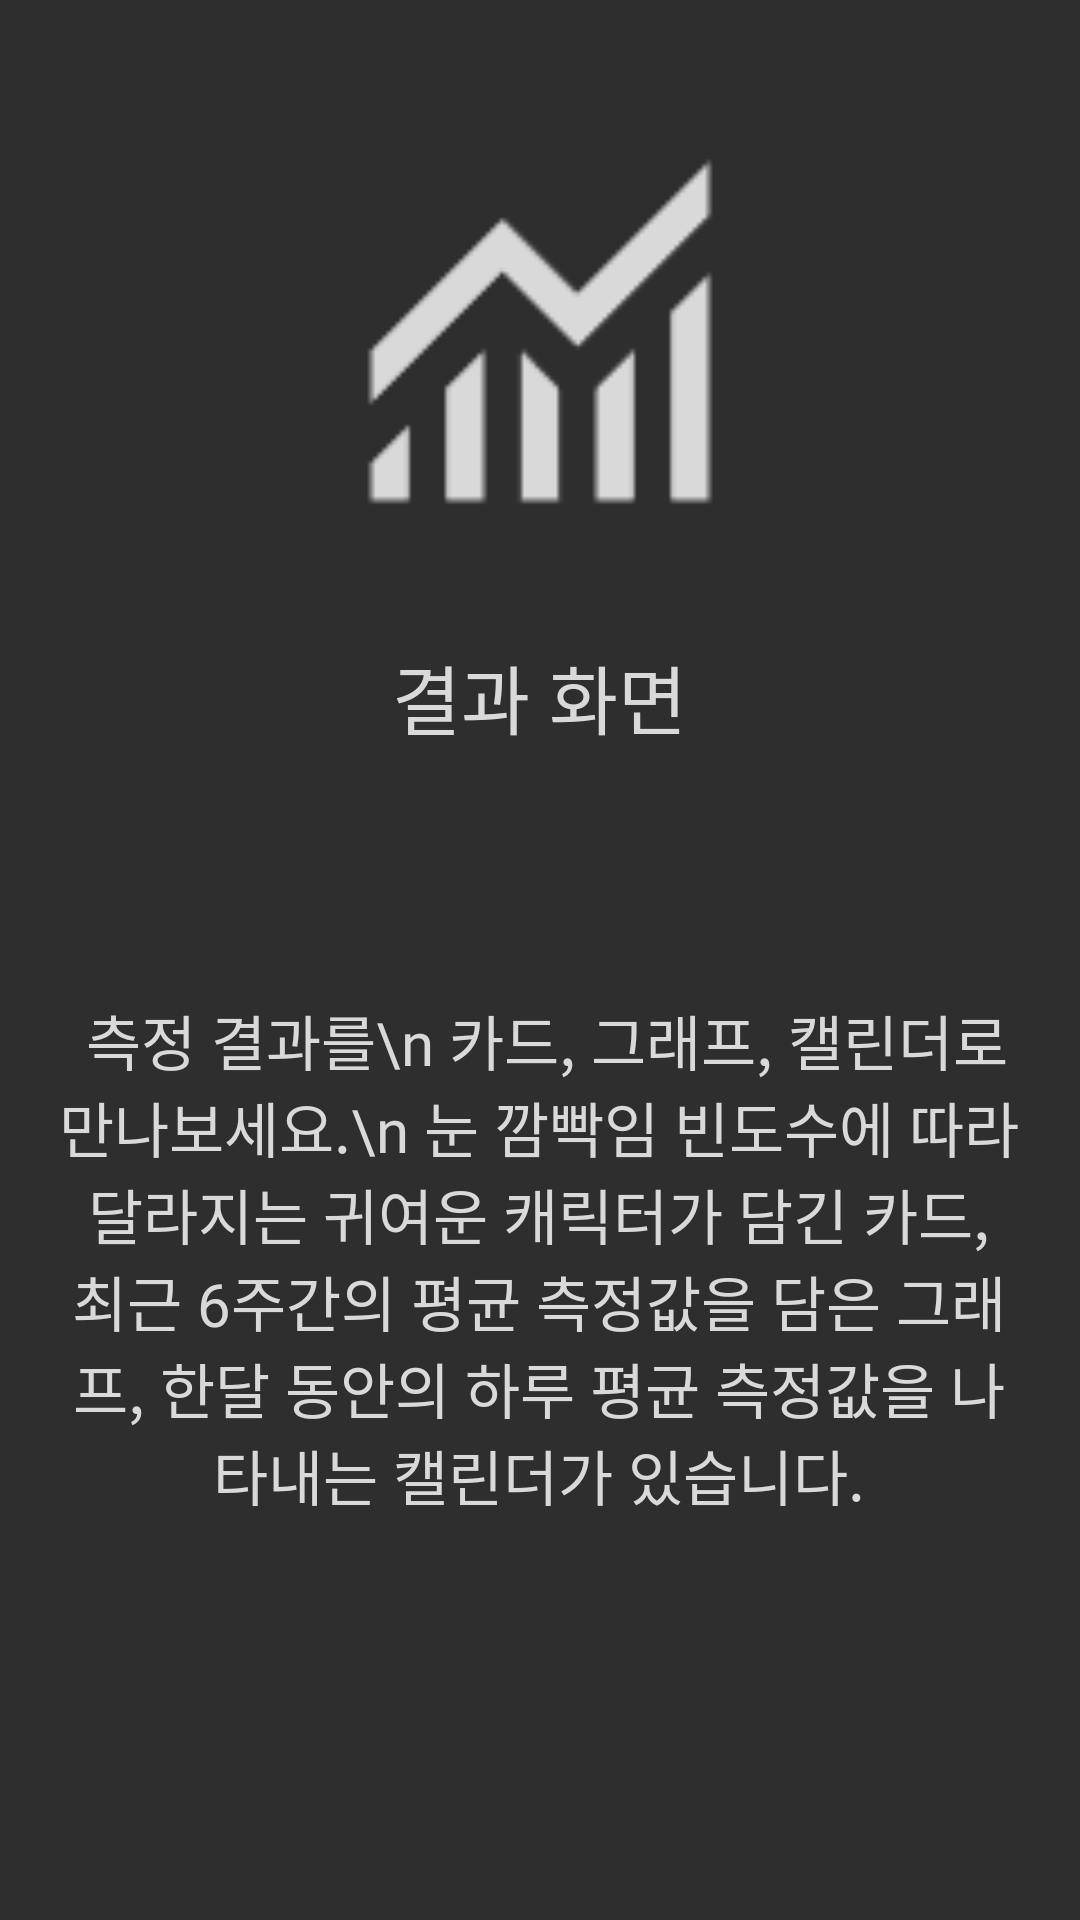

Where to tap for icons on this 1080 × 1920 app screen, as [x,y]:
monitoring: [540,332]
